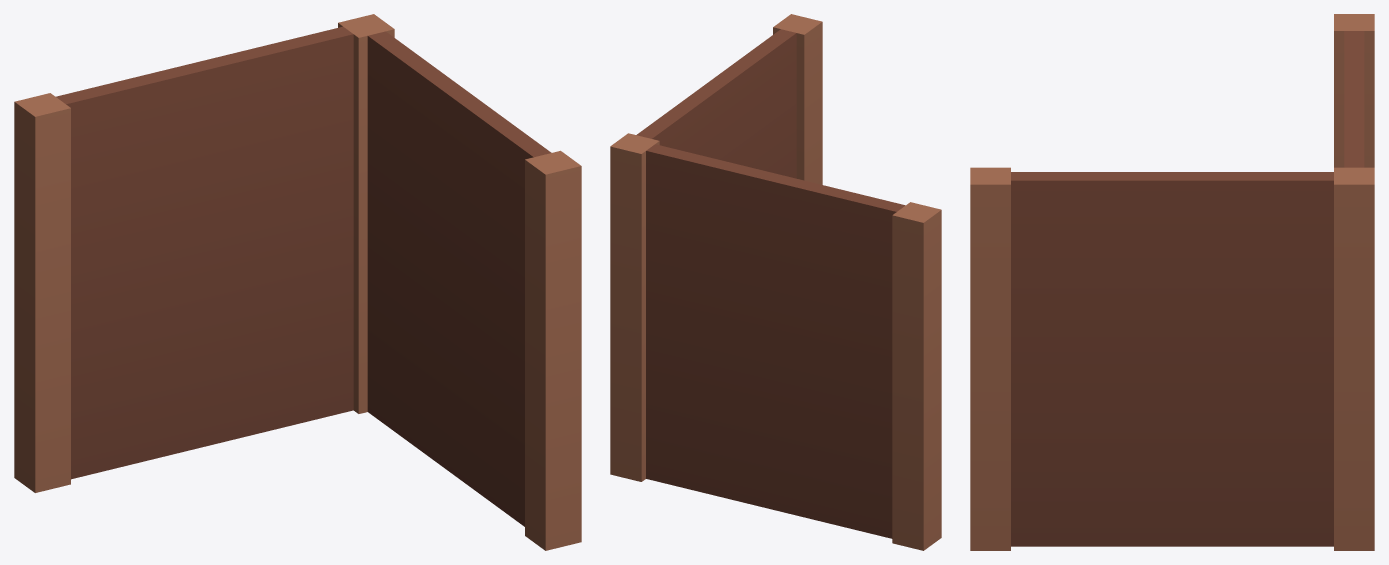
Rendered from fw_wall_timber_corner.glb.
3 views of the same model, side by side, from view 1: azimuth 30°, elevation 25°; view 2: azimuth 150°, elevation 25°; view 3: azimuth 270°, elevation 25° (orthographic). The views are drawn at different scales.
Visible parts, largest first — view 1: body; view 2: body; view 3: body.
Boxes of the visible parts, x1,y1,x2,y2 form: body: [14, 14, 581, 550]; body: [610, 14, 941, 550]; body: [970, 14, 1374, 550].
Size of the model in its own units: 2.6 by 2.6 by 2.6.
